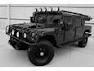car: (6, 7, 94, 68)
